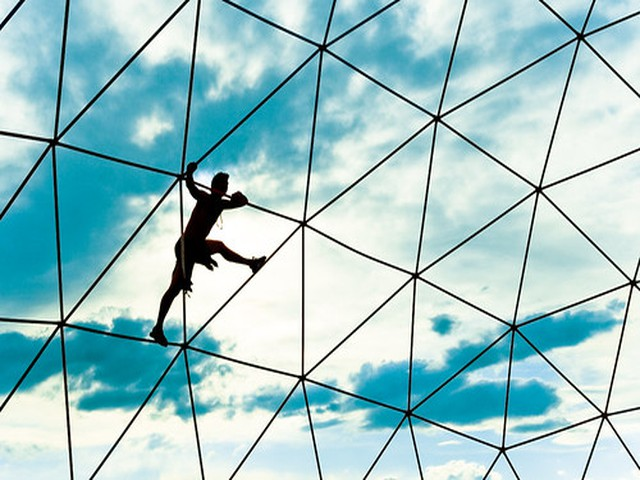Person: (174, 170, 265, 329)
